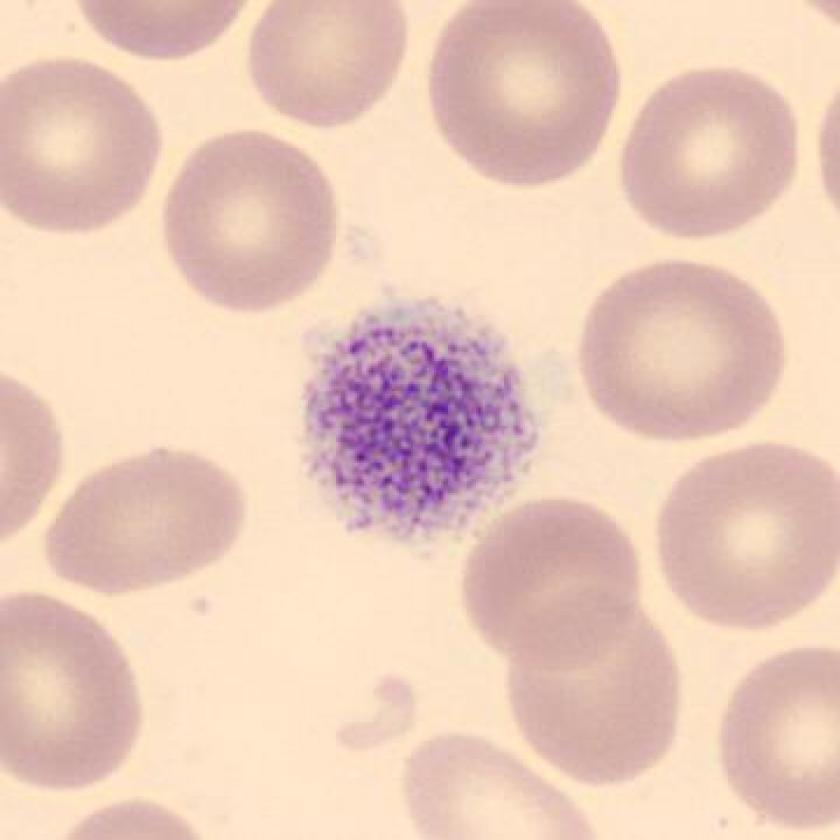platelets: (288, 288, 552, 577)
